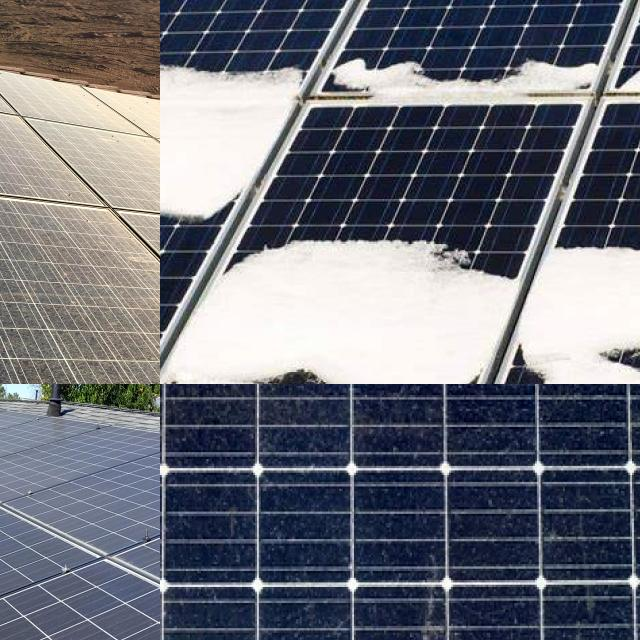dust: (257, 384, 537, 640), (160, 384, 254, 640), (548, 483, 640, 640), (267, 384, 526, 434), (0, 248, 150, 326), (539, 384, 640, 484), (0, 119, 88, 193), (0, 74, 58, 159), (44, 580, 126, 640), (171, 384, 260, 436), (160, 384, 203, 460), (0, 352, 96, 384)
panel: (237, 223, 526, 299), (160, 28, 315, 114), (466, 17, 598, 107), (529, 206, 640, 295), (223, 323, 381, 384), (332, 36, 444, 112), (164, 262, 236, 352), (160, 165, 248, 235), (240, 119, 319, 177), (442, 353, 558, 384), (591, 334, 640, 384), (160, 342, 192, 384)
